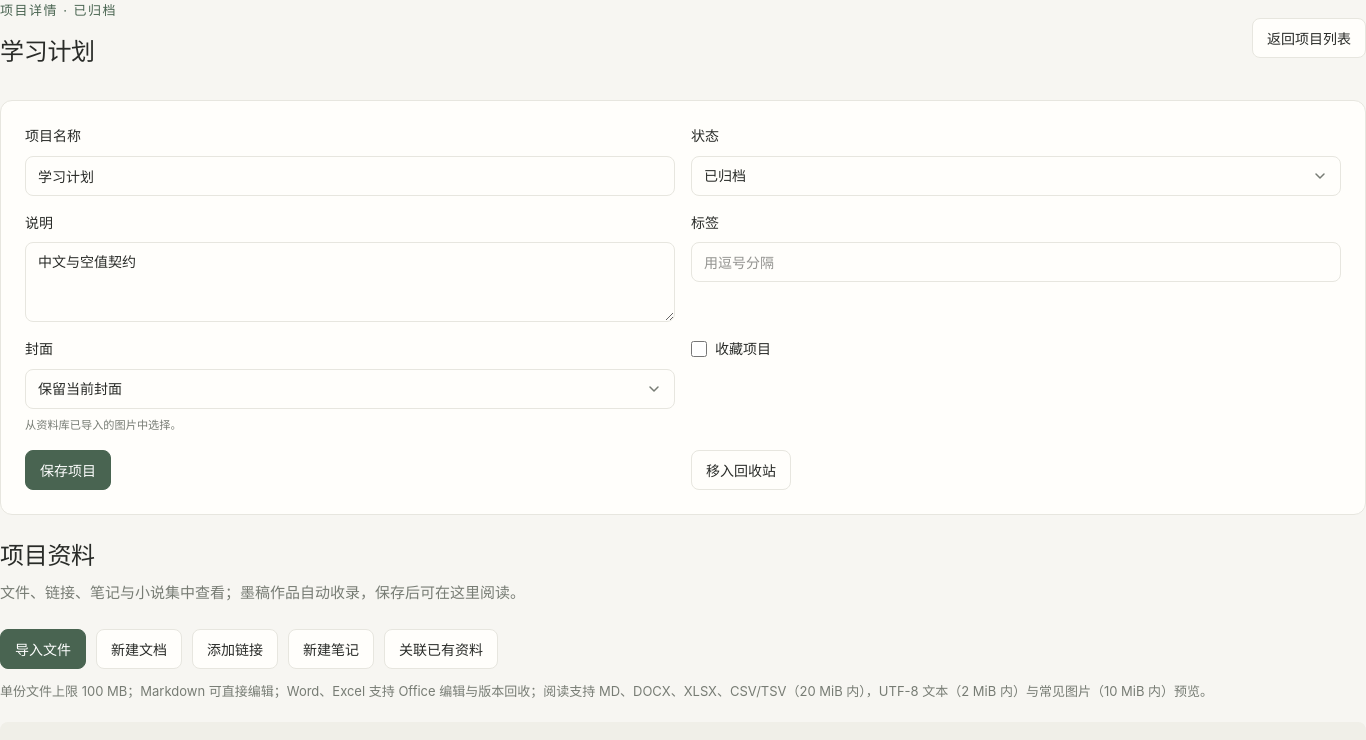
Test case: 修改项目失败时保留名称、收藏和标签，不把错误当保存成功
The image size is (1366, 740).
Replace the text in the field labelled "项目名称" with "修改后的名称" at (350, 176), box [25,156,675,196]
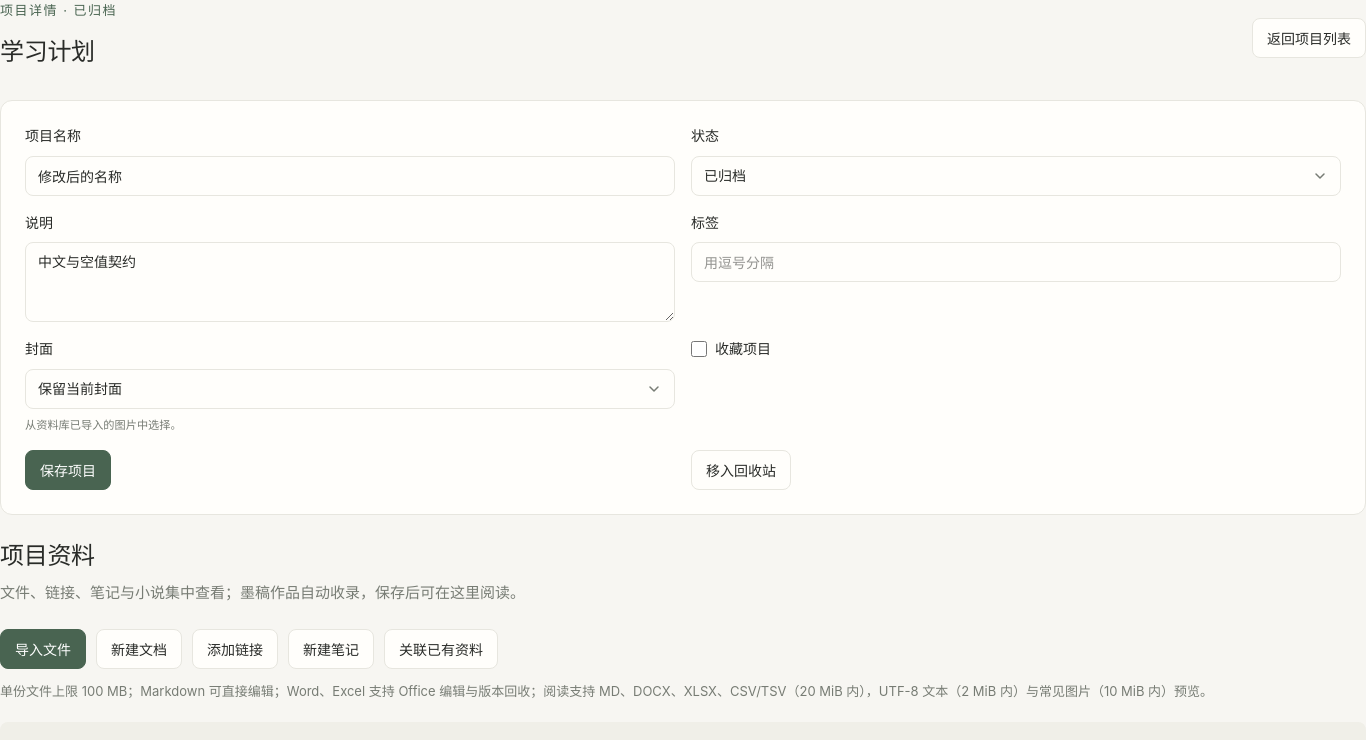
Type "学习，阅读" into the field labelled "标签".
click(1016, 262); type("学习，阅读")  # box [691,242,1341,282]
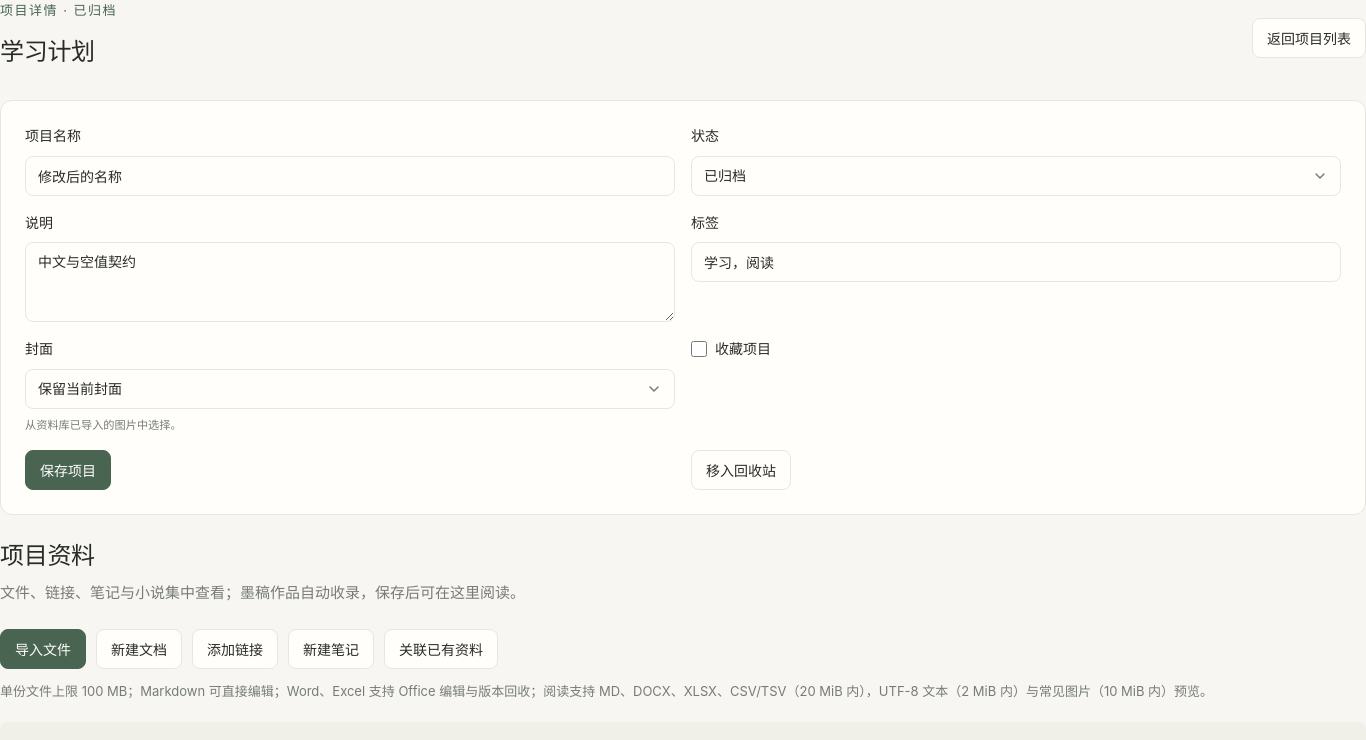
Click the checkbox labelled "收藏项目".
click(699, 349)  # box [691,341,707,357]
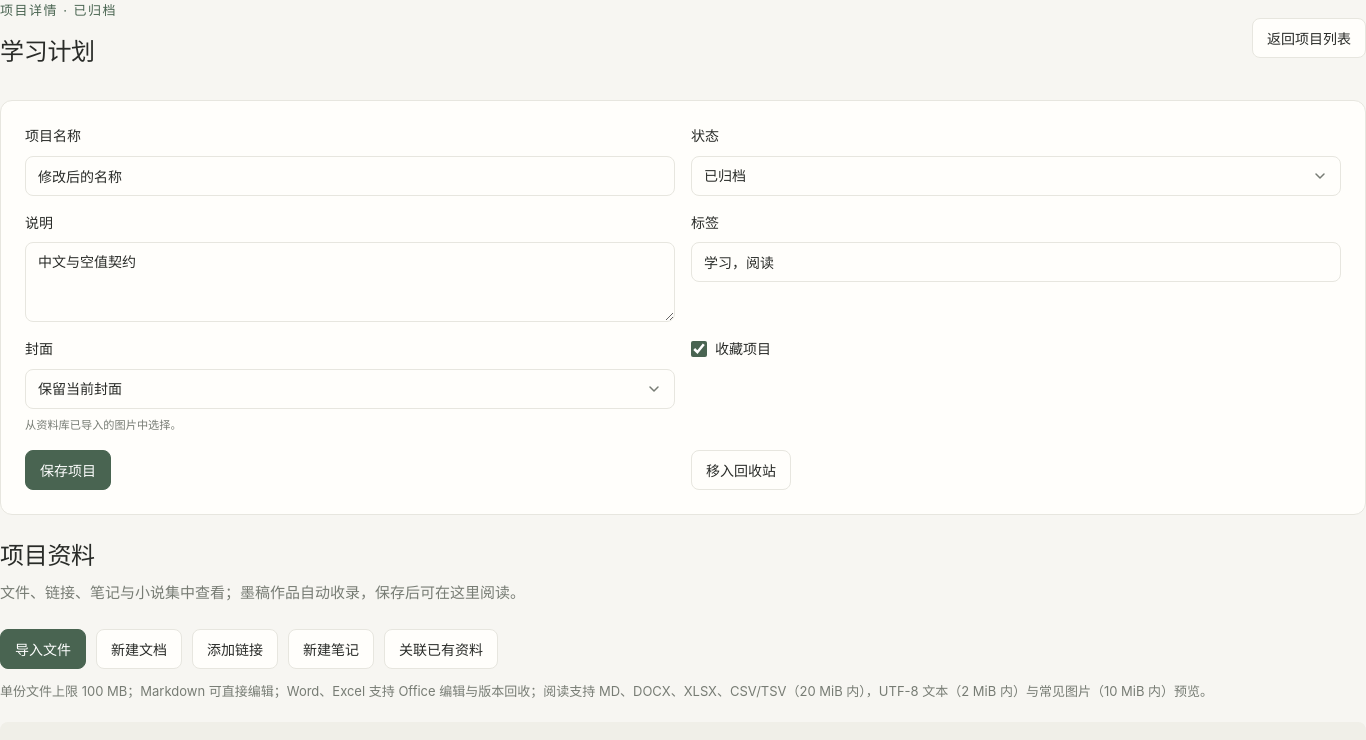
Click the button "保存项目".
click(68, 470)  # box [25,450,111,490]
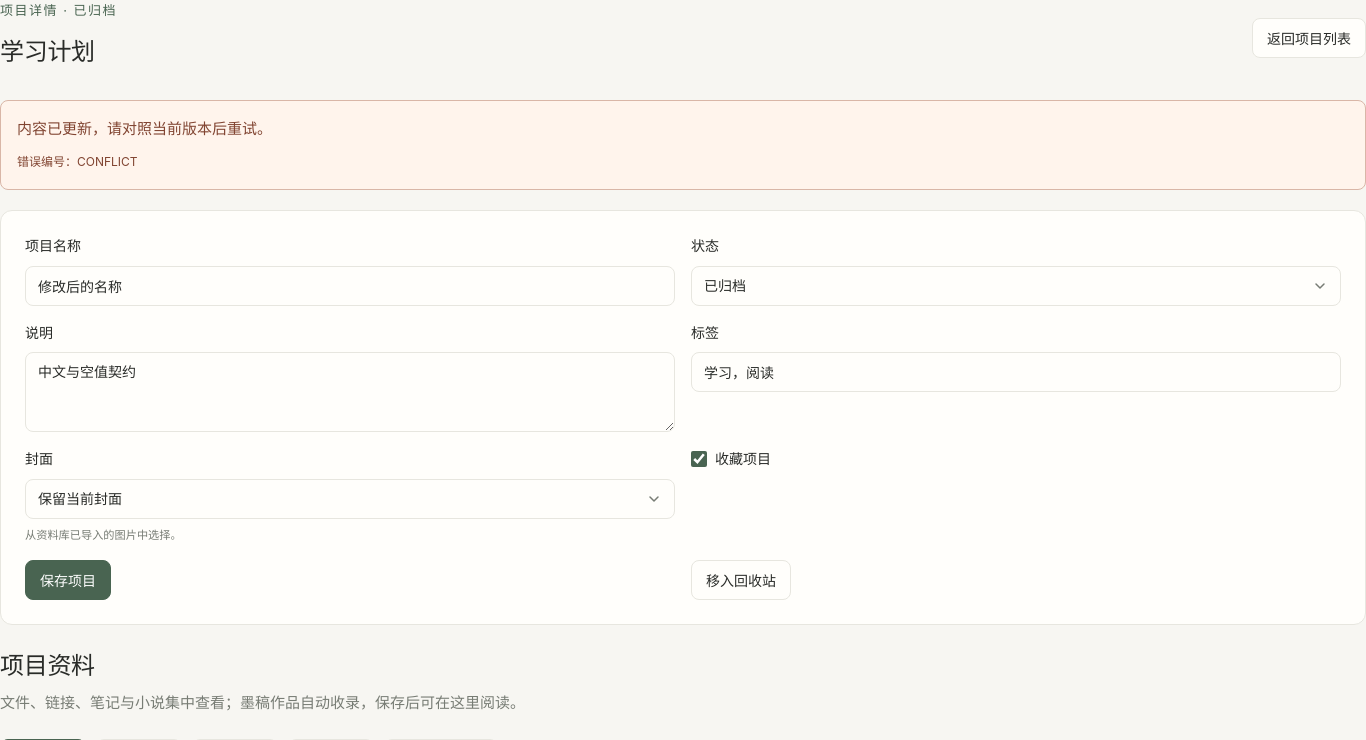
Expected: the checkbox labelled "收藏项目" is checked, [691,451,707,467]
Expected: the text "内容已更新，请对照当前版本后重试。" is shown, [17,119,272,138]
